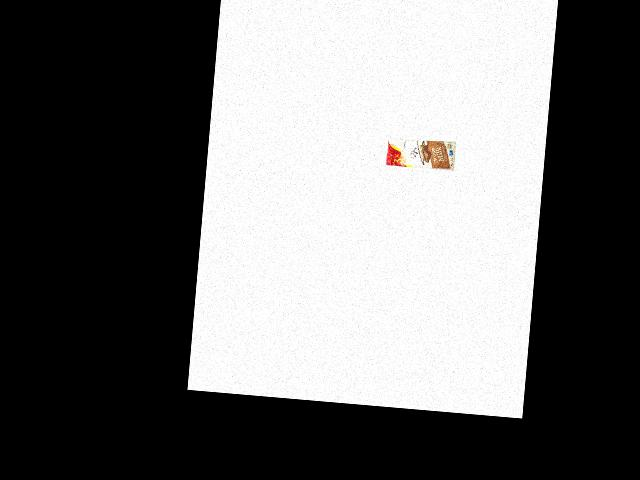chocolate: (384, 134, 455, 173)
